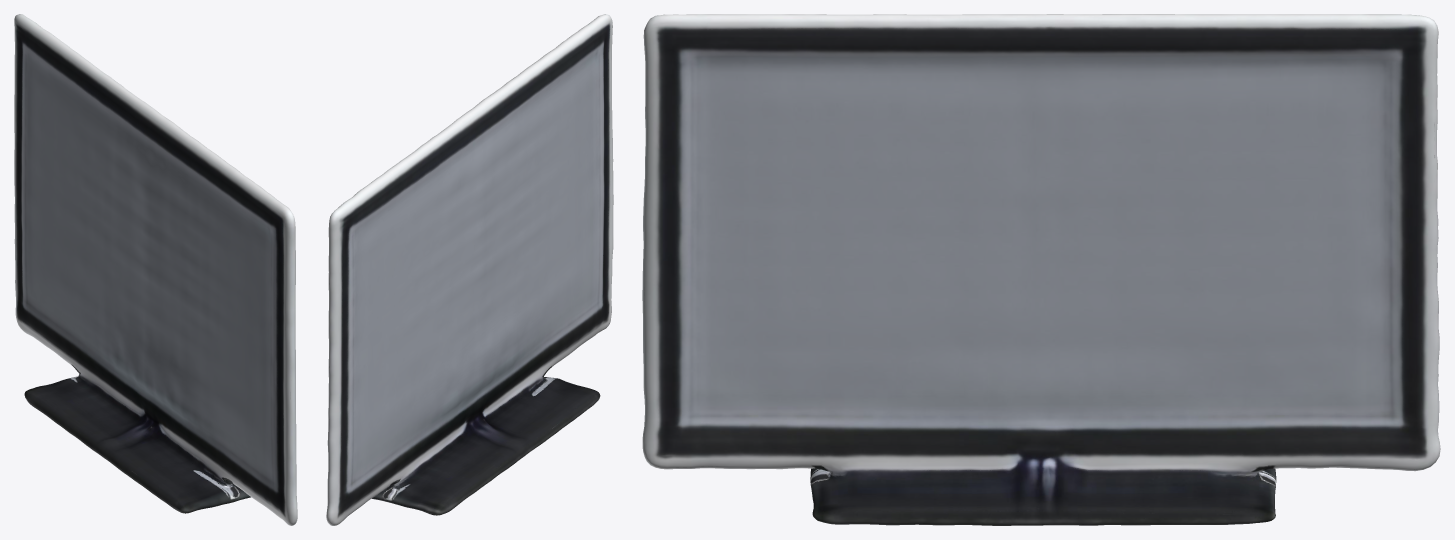
The picture shows the model from 3 angles, left to right: view 1: azimuth 30°, elevation 25°; view 2: azimuth 150°, elevation 25°; view 3: azimuth 270°, elevation 25°; orthographic projection. The views are drawn at different scales.
Visible parts, largest first — view 1: mesh; view 2: mesh; view 3: mesh.
Part boxes in pixels (x1,y1,x2,y2): mesh: [14, 14, 297, 525]; mesh: [326, 14, 613, 525]; mesh: [642, 14, 1440, 525].
Size of the model in its own units: 0.2133 by 0.6628 by 0.9985.
Materials: 1 (1 with a texture image).
